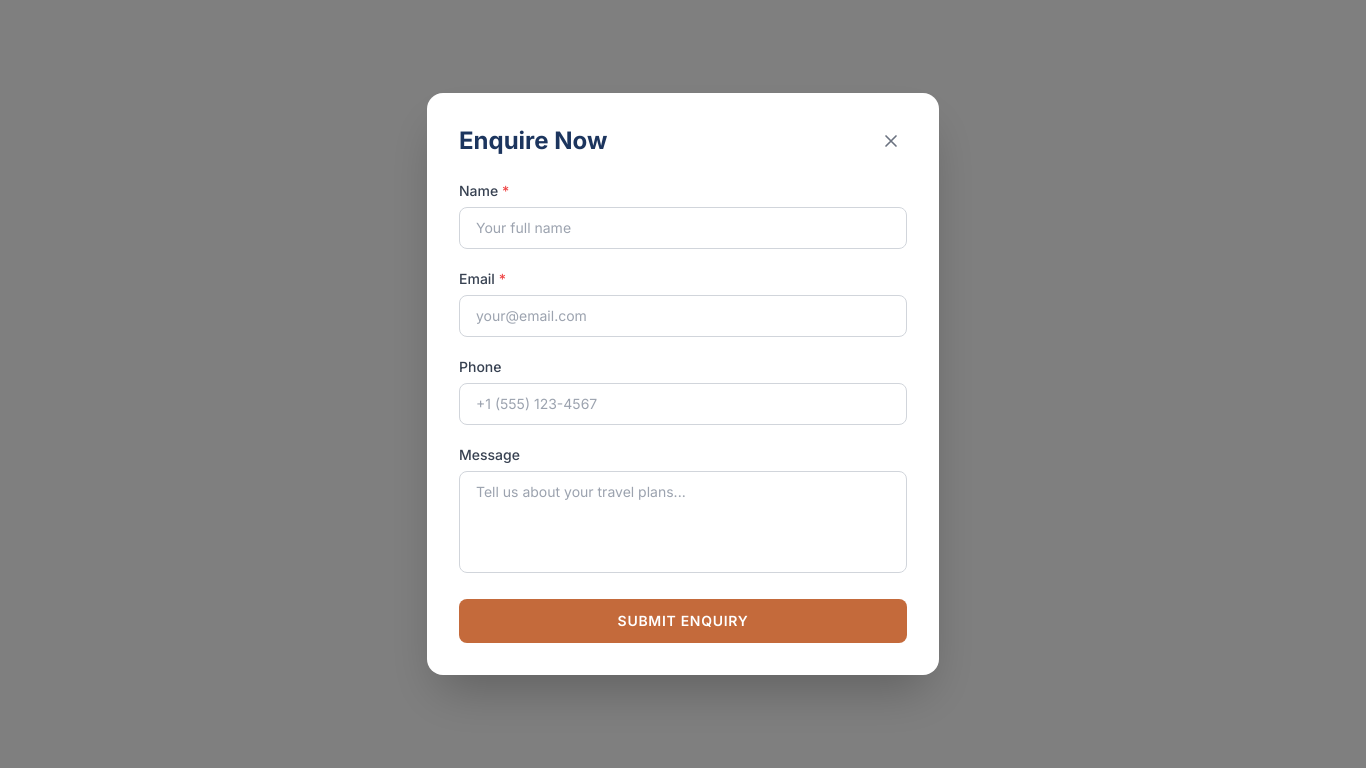
Test: EnquiryForm › submits form successfully
The image size is (1366, 768).
Step 1. Type "John Doe" into the field labelled "Name *" → coordinates (683, 228), box [459,207,907,249]
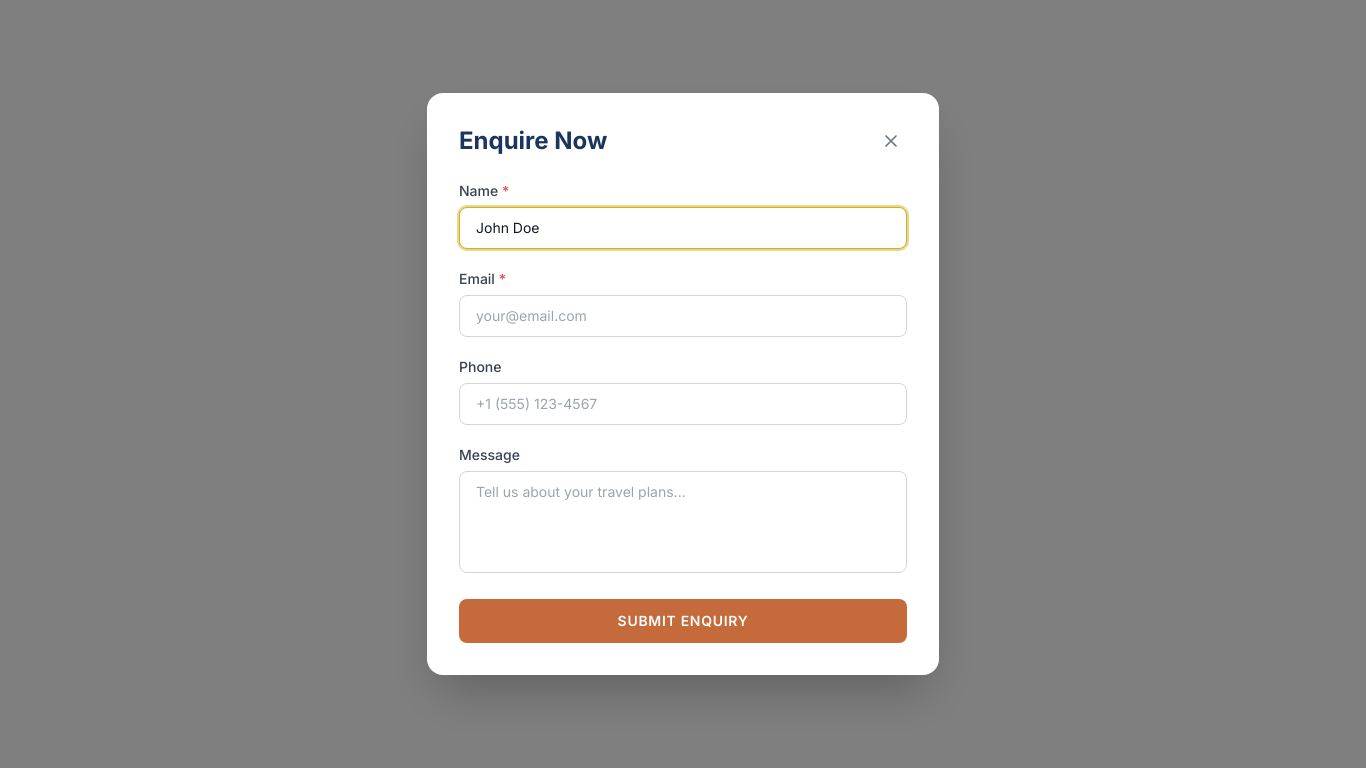
Step 2. Type "john@example.com" into the field labelled "Email *" → coordinates (683, 316), box [459,295,907,337]
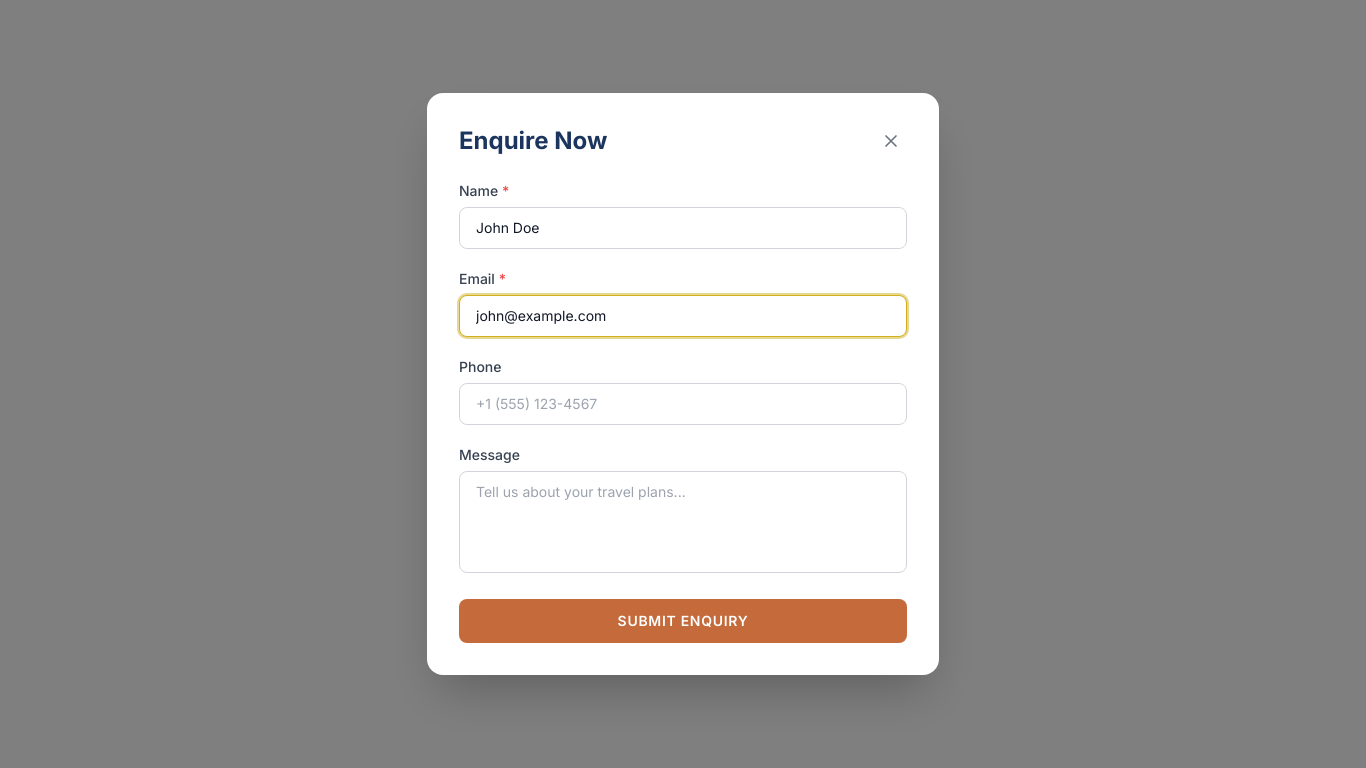
Step 3. Click the button "Submit Enquiry" → coordinates (683, 621), box [459,599,907,643]
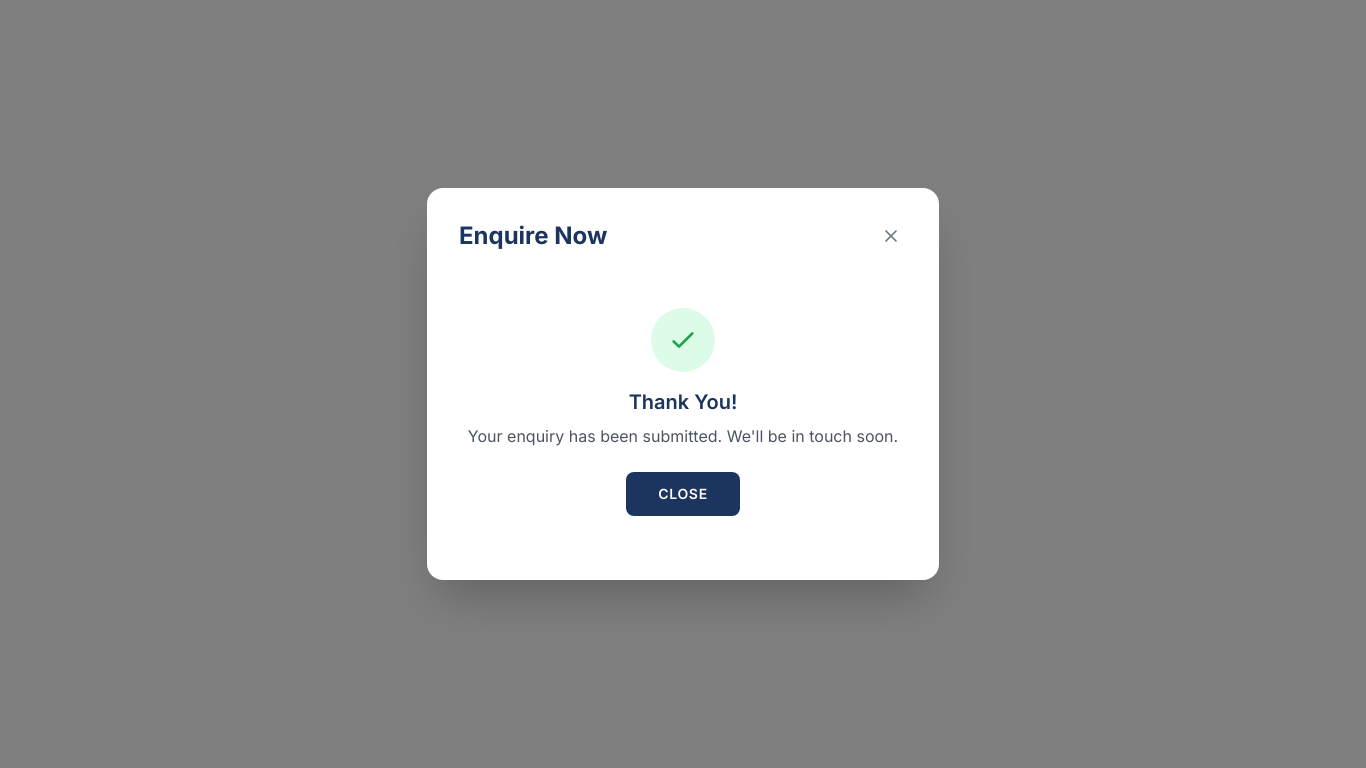
Expected: the heading "Thank You!" is shown, [629,390,737,414]
